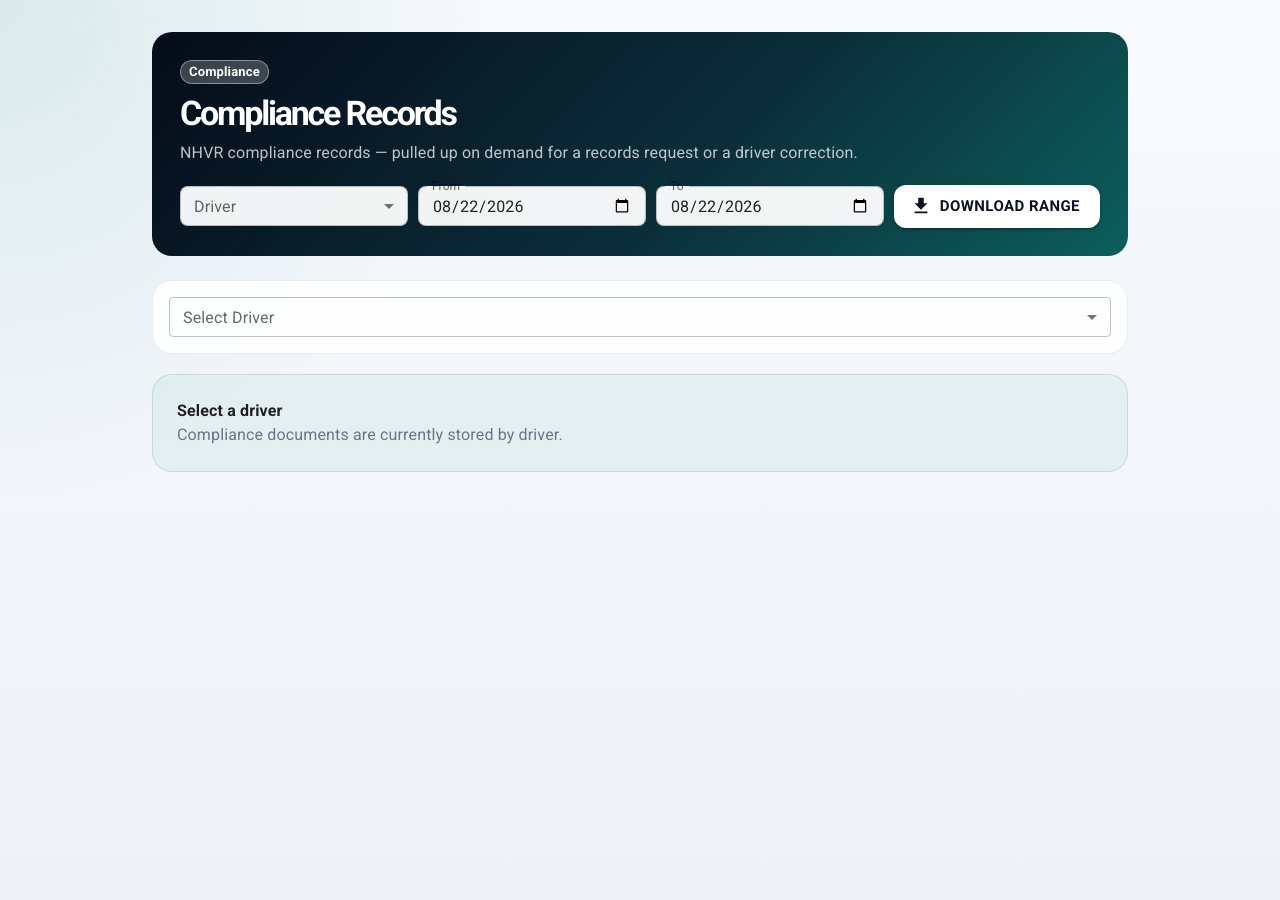
Scenario: admin WorkDiary — inline preview › PASS: a failed preview fetch shows an error instead of a blank dialog
Expected: the text "Select a driver" is shown, [177,400,282,420]
Click the dropdown named "Select Driver" next to "Select Driver".
click(640, 316)  # box [169,296,1111,336]
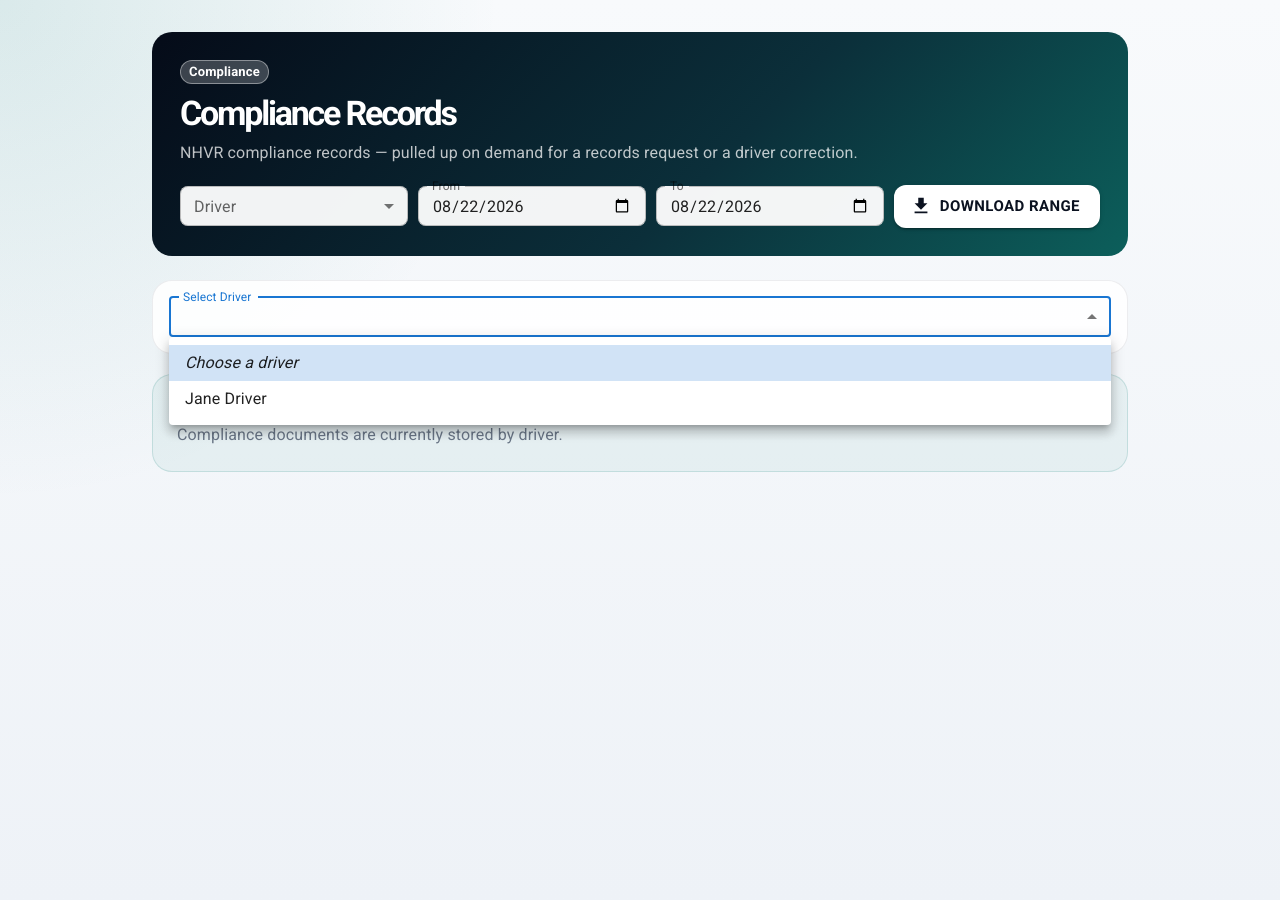
Click the option "Jane Driver".
click(226, 398)  # box [185,389,267,408]
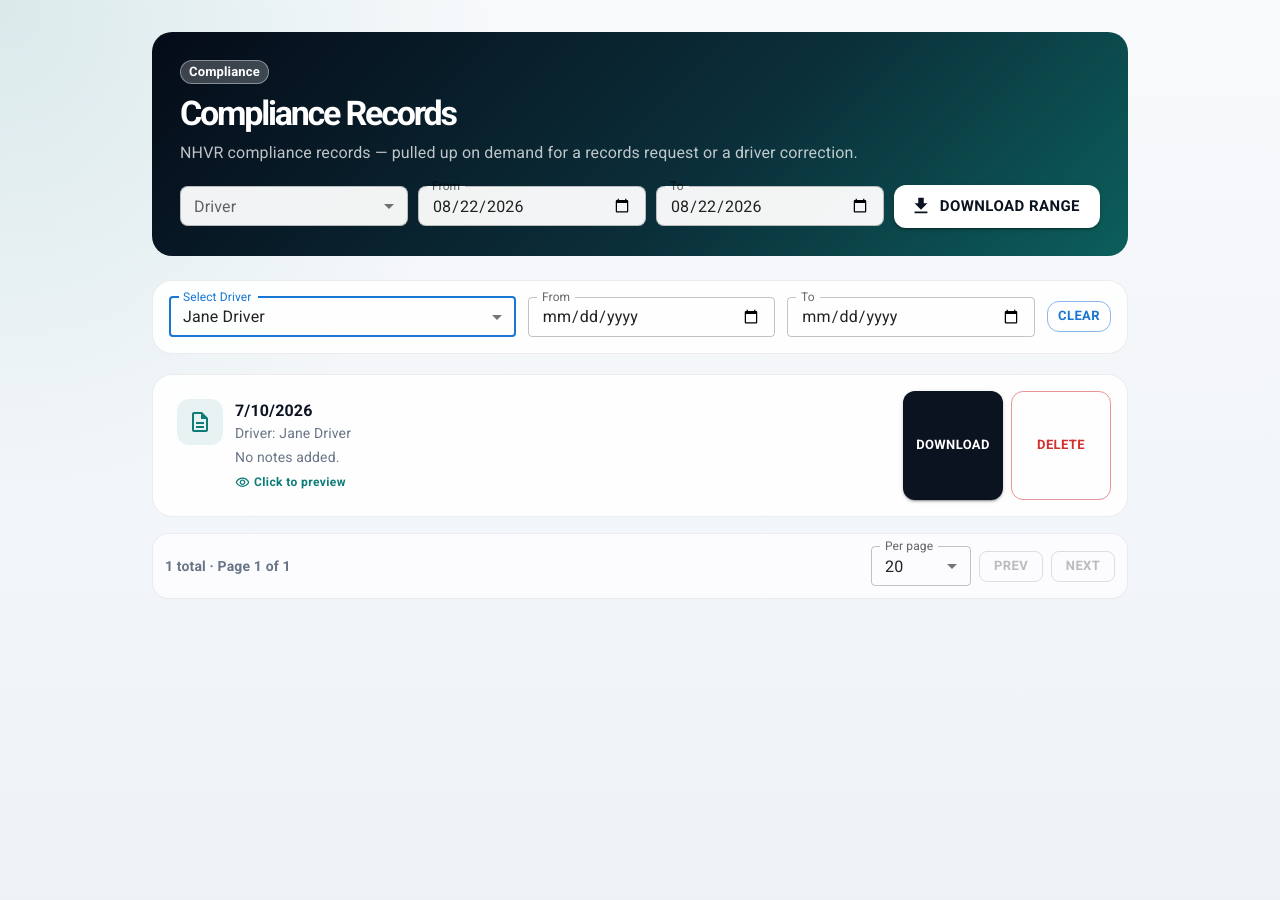
Click the text "Driver: Jane Driver".
click(293, 432)  # box [235,422,351,442]
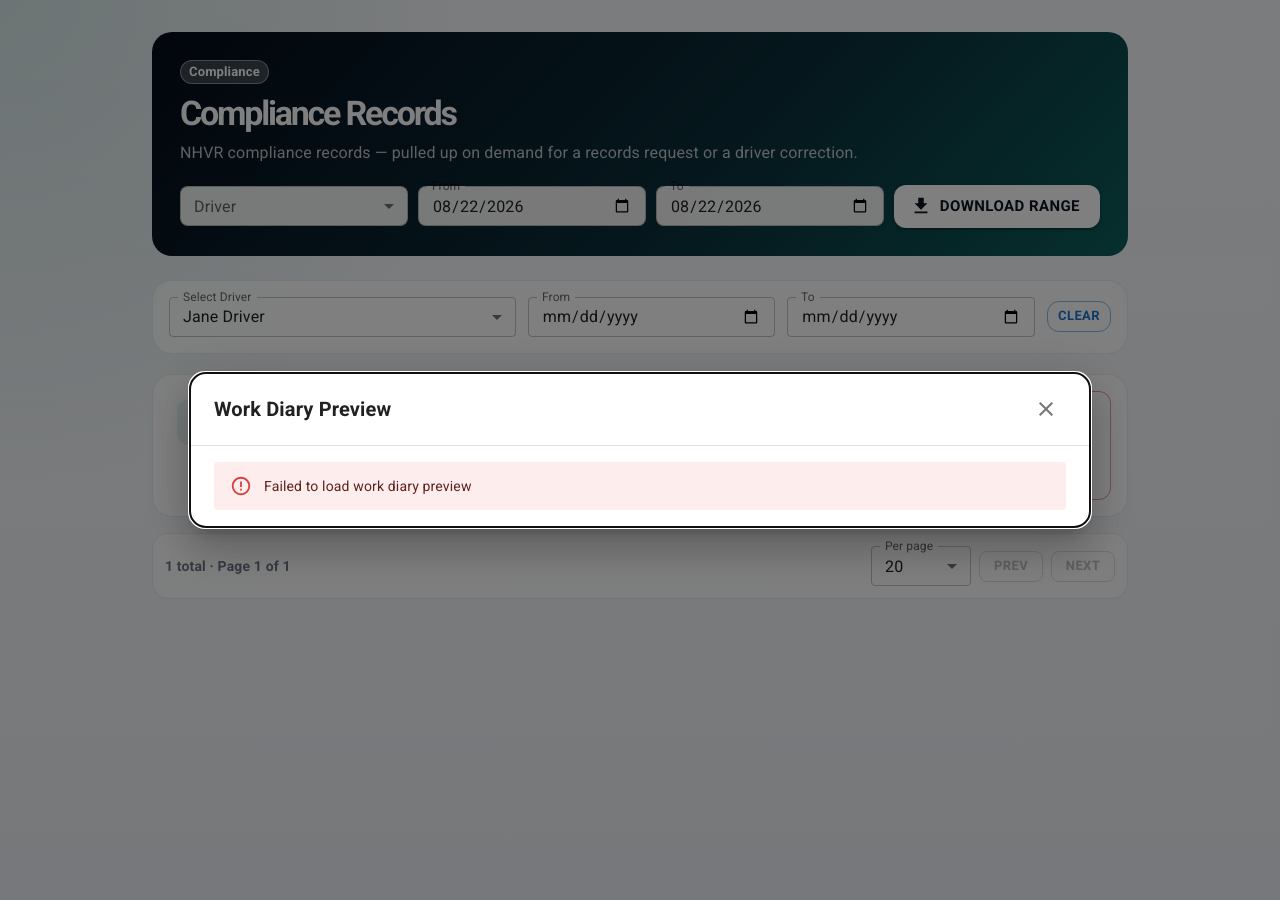
Expected: the text "Failed to load work diary preview" is shown, [264,478,472,494]
